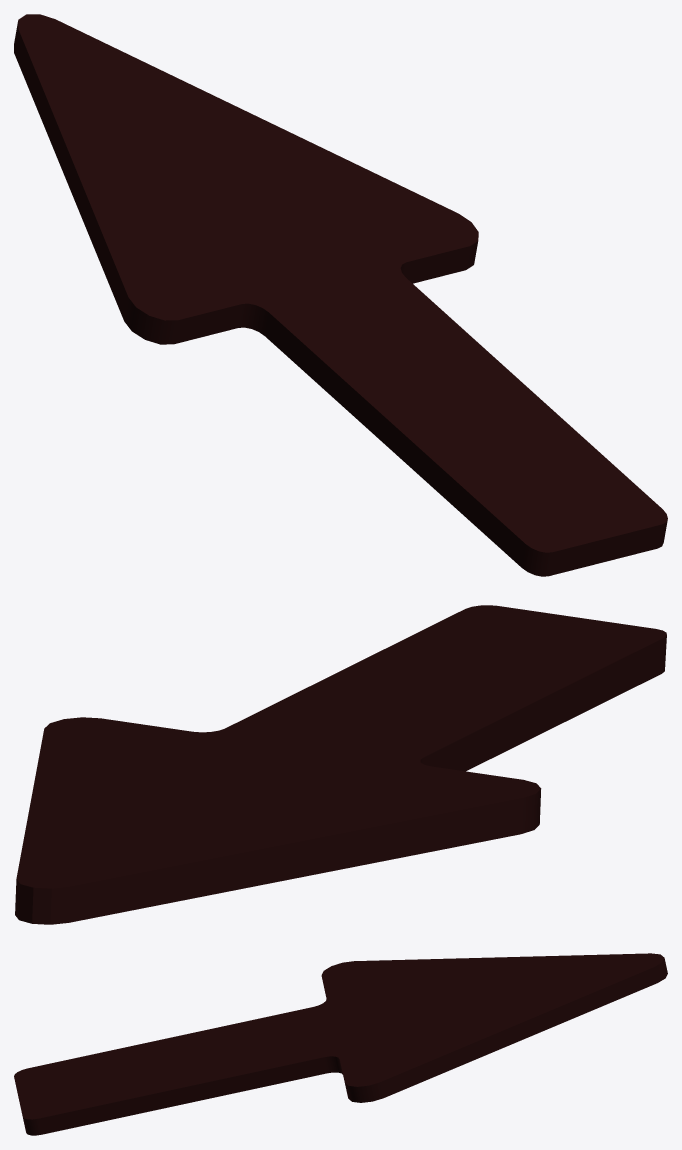
File: arrow.dae
3 views of the same model, one above another, from view 1: azimuth 30°, elevation 25°; view 2: azimuth 150°, elevation 25°; view 3: azimuth 270°, elevation 25° (orthographic). The views are drawn at different scales.
Parts seen in each view (by area): view 1: arrow; view 2: arrow; view 3: arrow.
Part boxes in pixels (x1,y1,x2,y2): arrow: (14, 14, 667, 576); arrow: (15, 605, 666, 924); arrow: (14, 953, 667, 1135).
Size of the model in its own units: 0.143 by 0.0783 by 0.3512.
